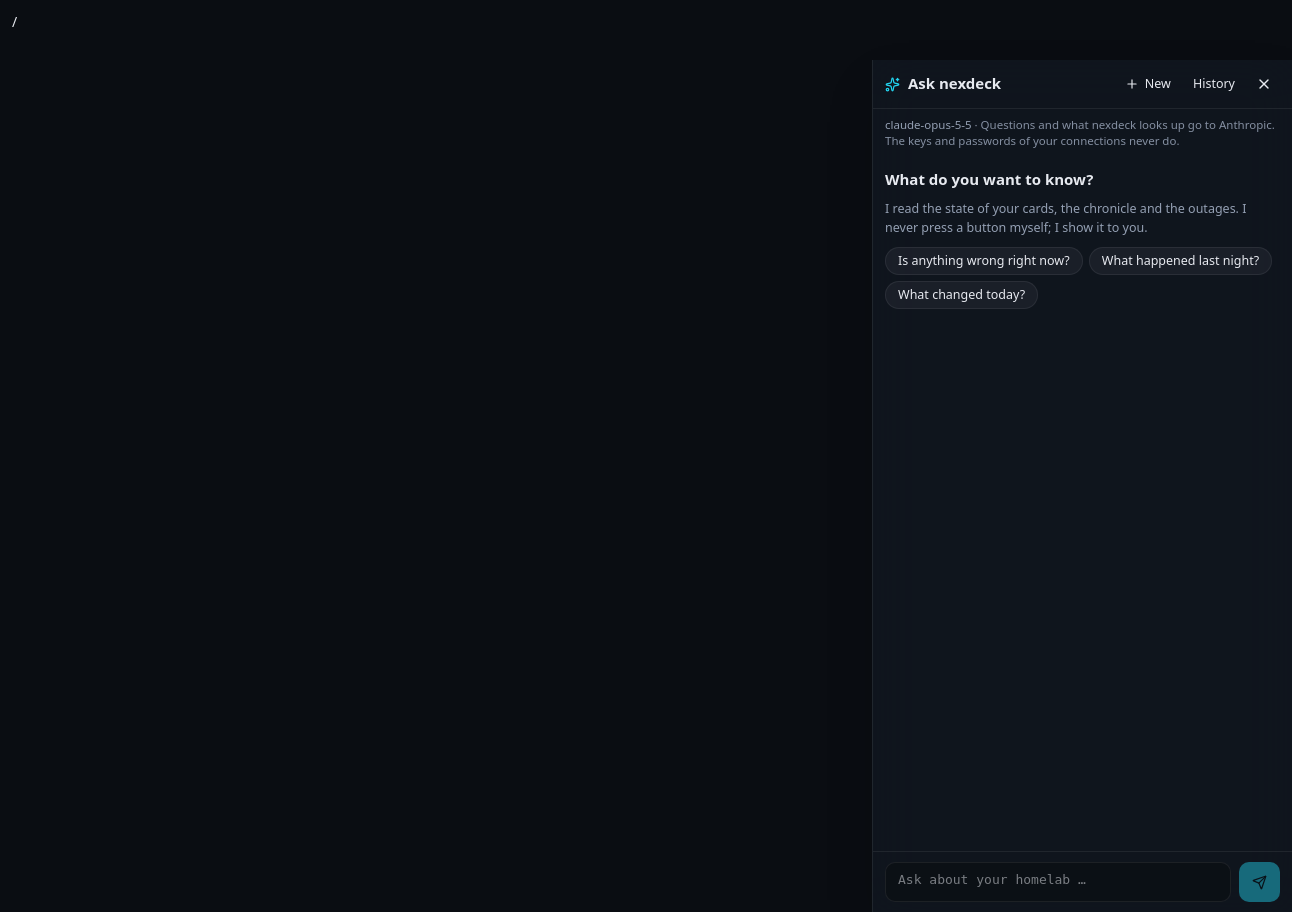
Test: karten18 ac3, ec3: Open in editor › has a chip of its own for every draft, each leading to its own draft
Type "Build me two cards" into the text box named "Question" at x=1058, y=882, box 885,862 -> 1231,902
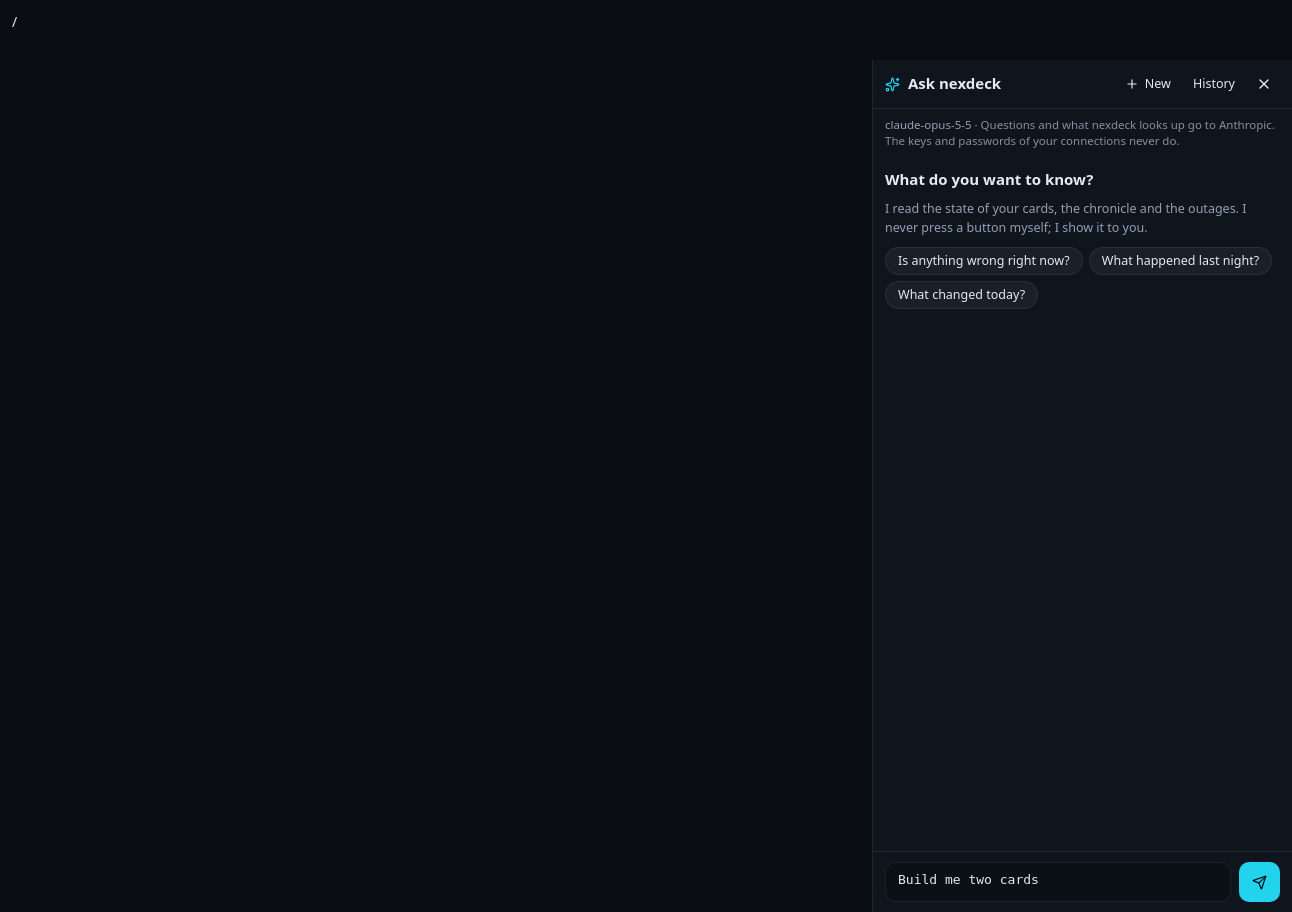
Click the button named "Send" at x=1260, y=882, box 1239,862 -> 1280,902
(page scrolled)
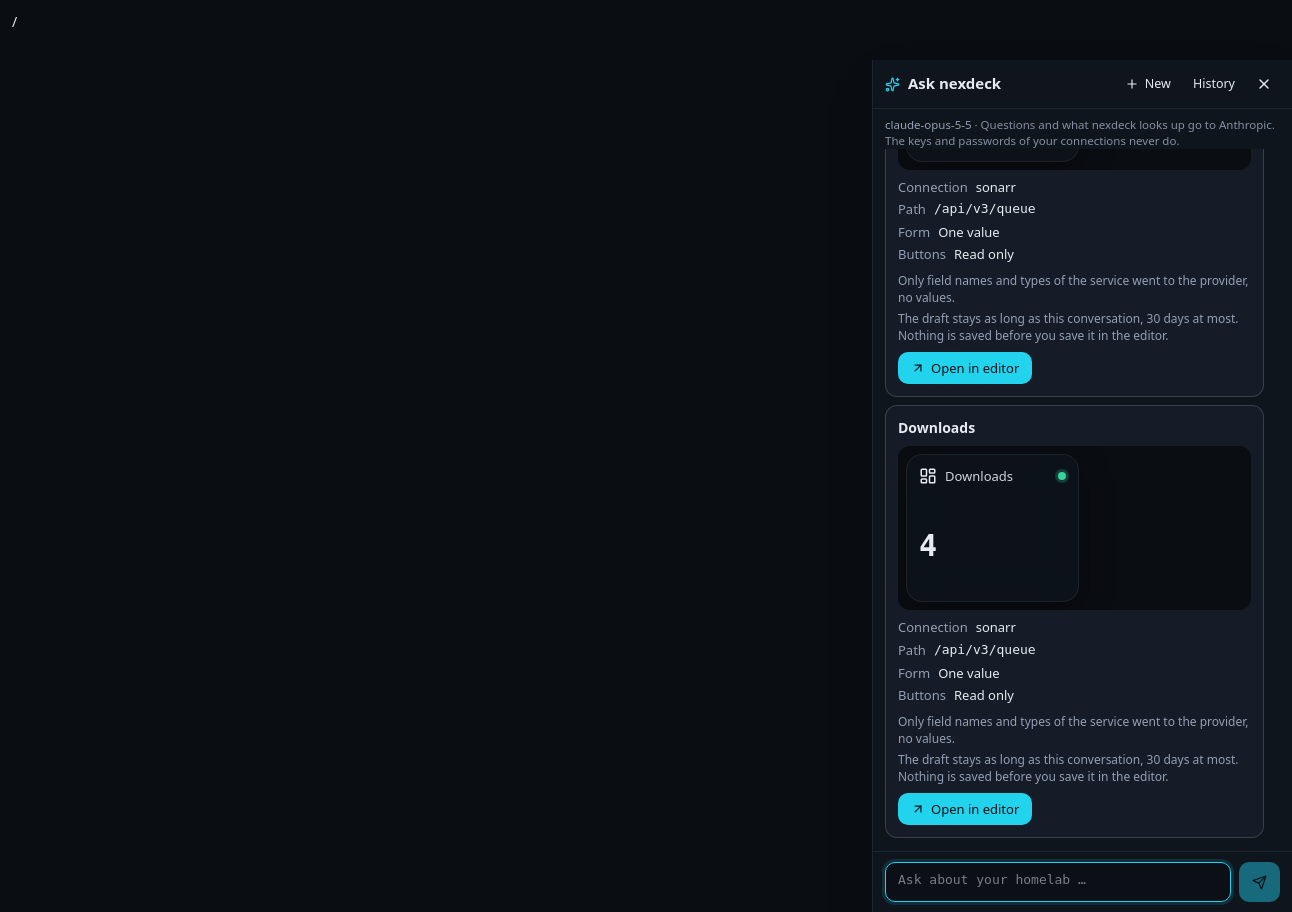
Now the number of elements with test id "assistant-draft" is 2
Now the number of buttons "Open in editor" is 2
Click the 2nd button "Open in editor" at x=965, y=809, box 898,793 -> 1032,825
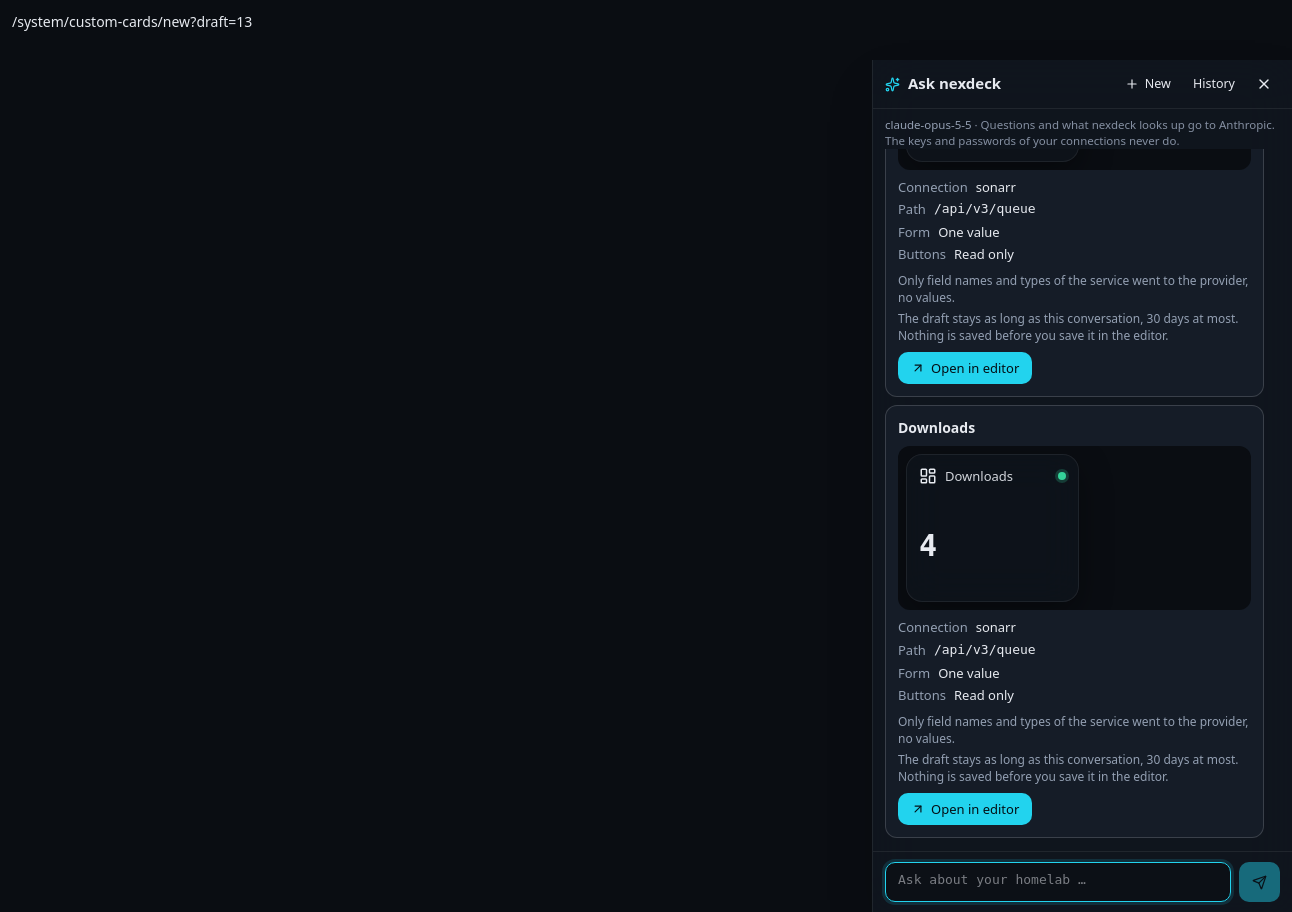
Now the text with test id "where" reads "/system/custom-cards/new?draft=13", box 12,12 -> 252,31
Click the 1st button "Open in editor" at x=965, y=368, box 898,352 -> 1032,384
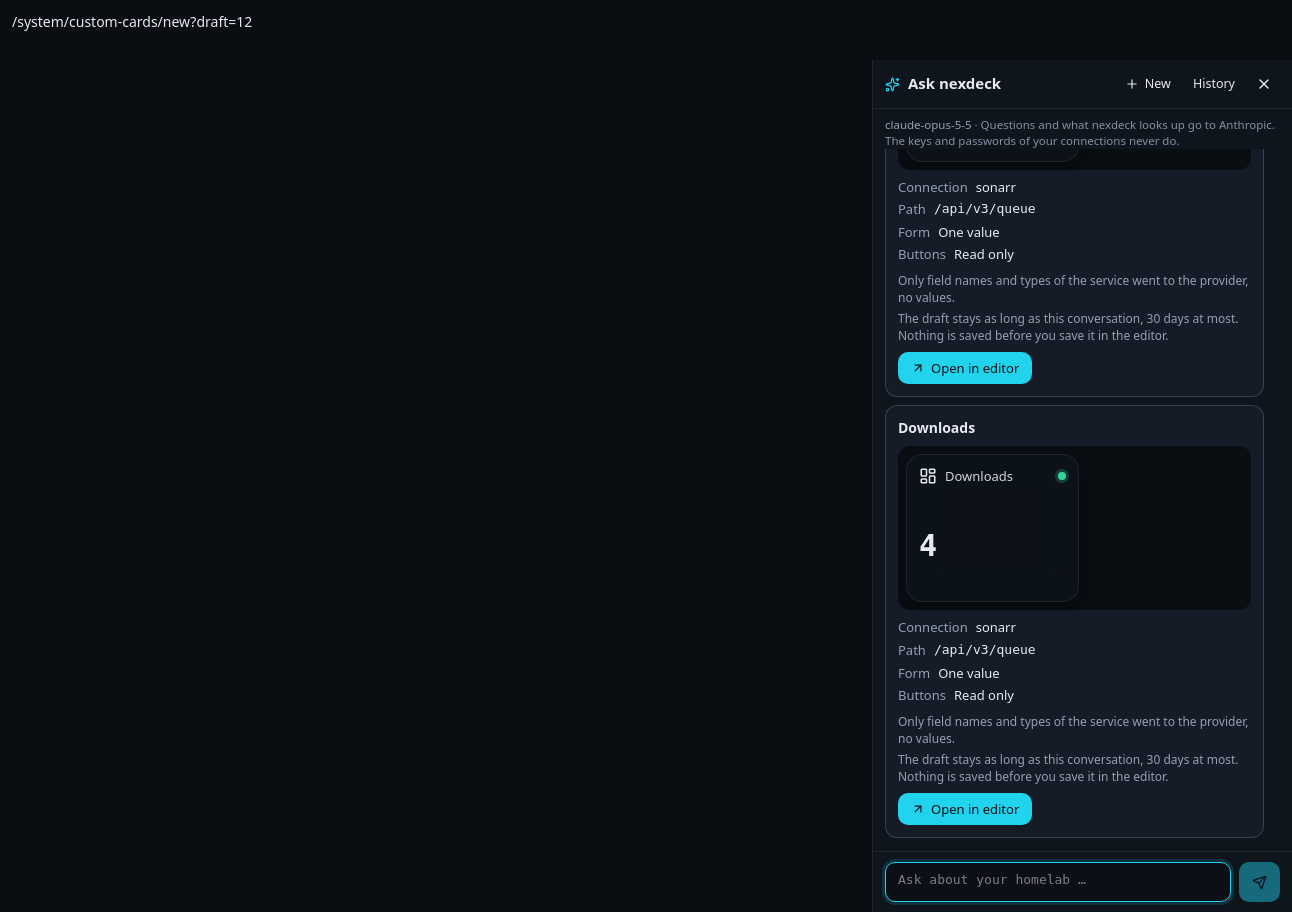
Now the text with test id "where" reads "/system/custom-cards/new?draft=12", box 12,12 -> 252,31
